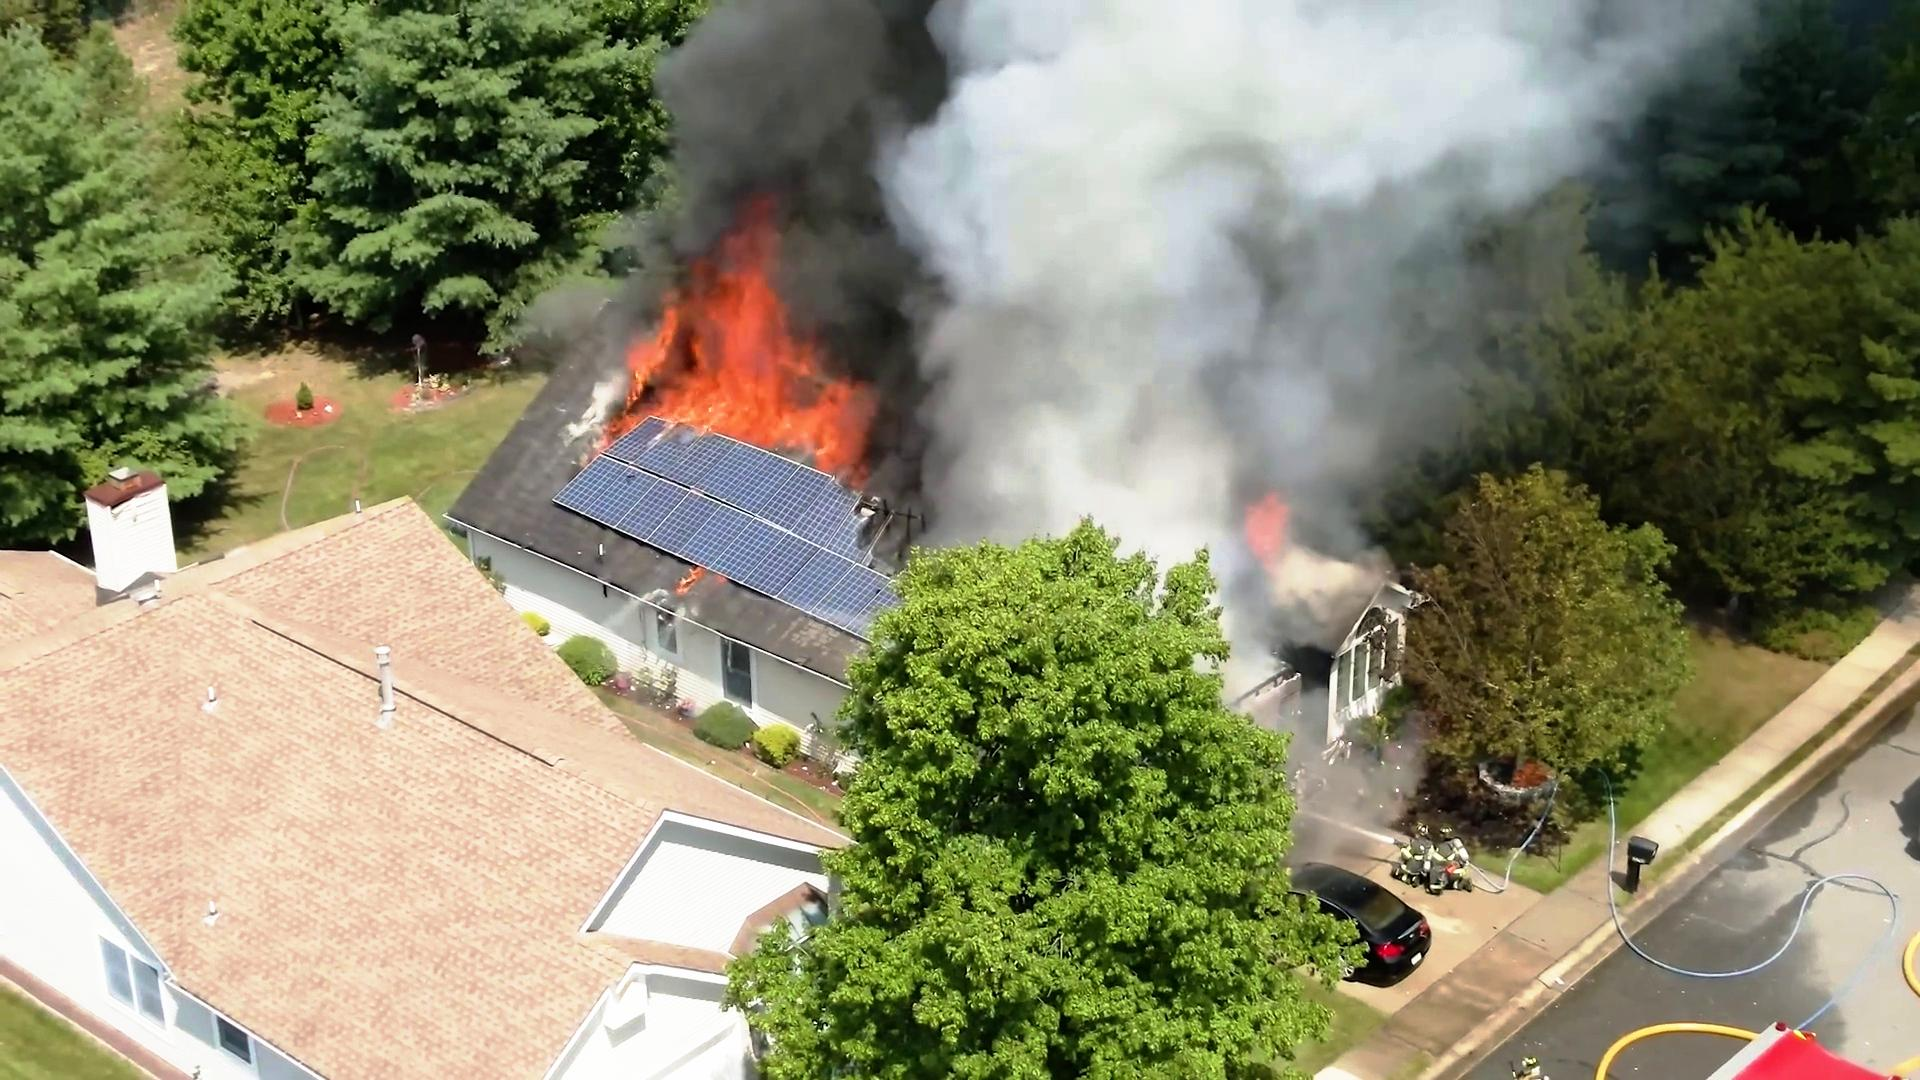fire: (616, 236, 872, 459)
smoke: (953, 0, 1267, 541), (678, 5, 943, 223)
